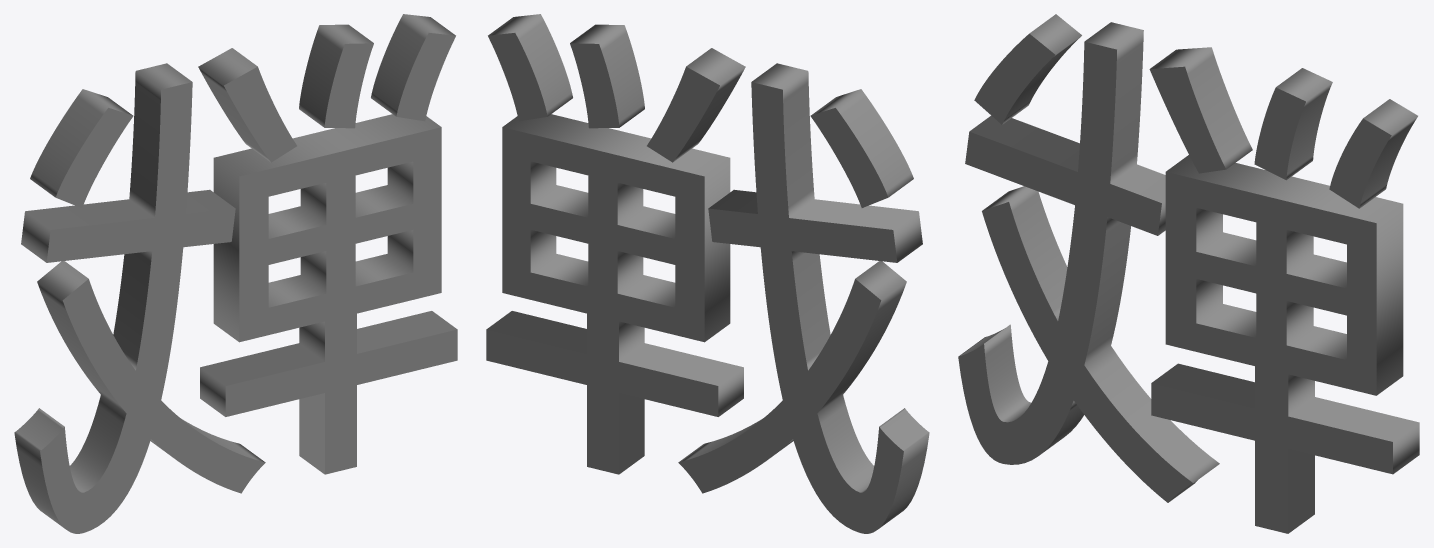
Rendered from title_3.obj.
3 views of the same model, side by side, from view 1: azimuth 30°, elevation 25°; view 2: azimuth 150°, elevation 25°; view 3: azimuth 330°, elevation 25° (orthographic). The views are drawn at different scales.
Visible parts, largest first — view 1: title_3; view 2: title_3; view 3: title_3.
Boxes of the visible parts, left/top/right/bottom form: title_3: left=14, top=14, right=457, bottom=533; title_3: left=486, top=14, right=929, bottom=533; title_3: left=958, top=14, right=1419, bottom=533.
Size of the model in its own units: 0.941 by 0.917 by 0.1.
